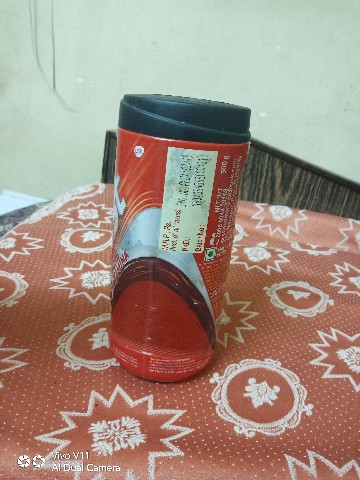boost big: (85, 72, 262, 398)
